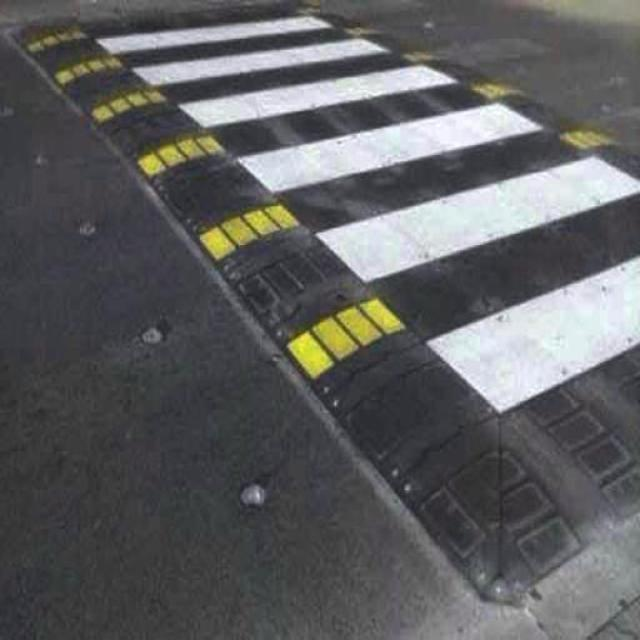sidewalk: (57, 6, 640, 551)
